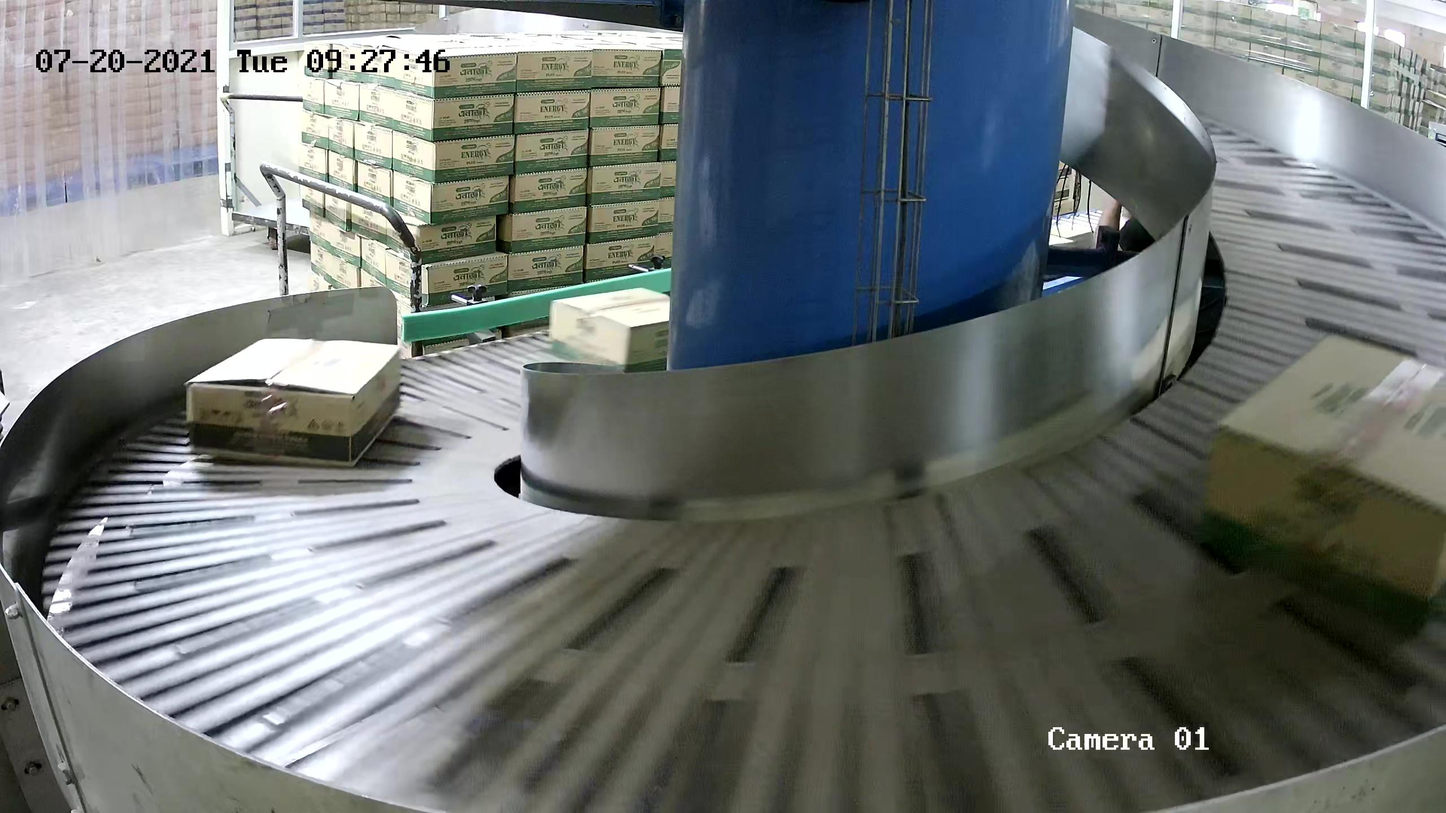Box: (1203, 331, 1446, 632), (183, 337, 402, 468), (548, 286, 671, 374)
